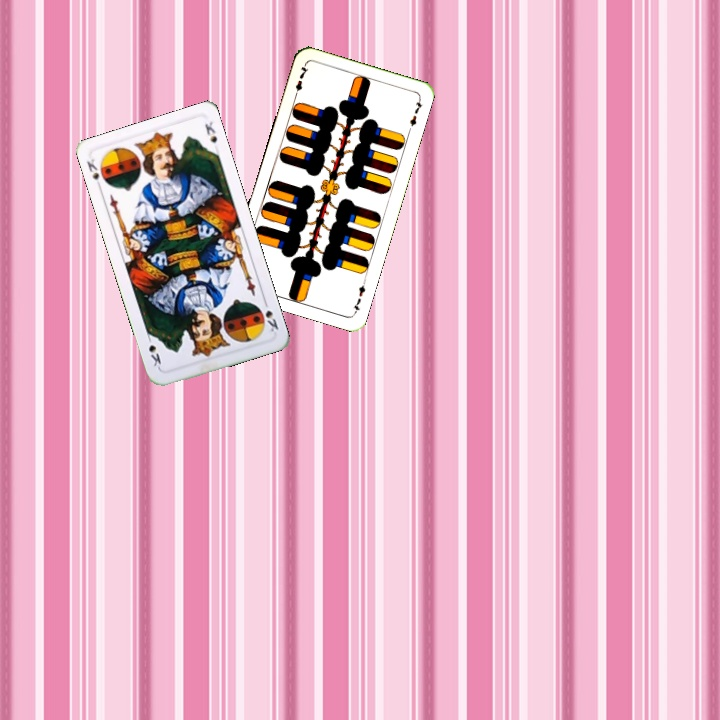E7: (290, 61, 311, 101), (348, 276, 369, 316)
SK: (82, 154, 104, 192), (260, 296, 281, 335)
